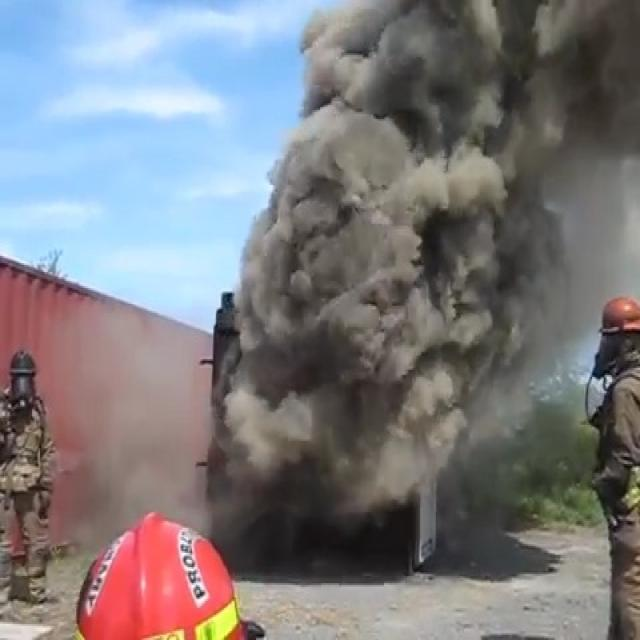Smoke: (224, 26, 586, 536)
